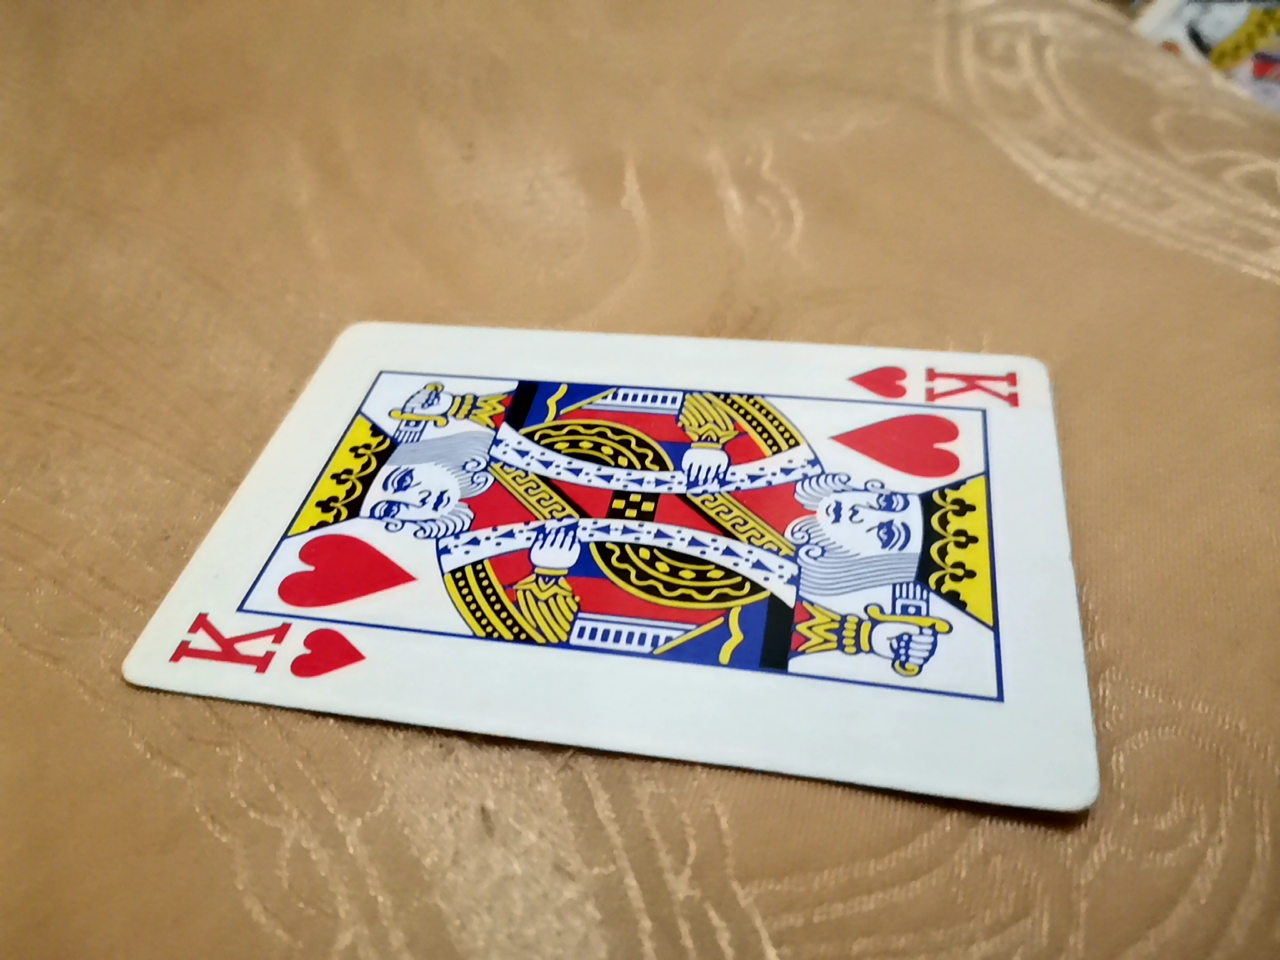hx k: (142, 304, 1109, 804)
